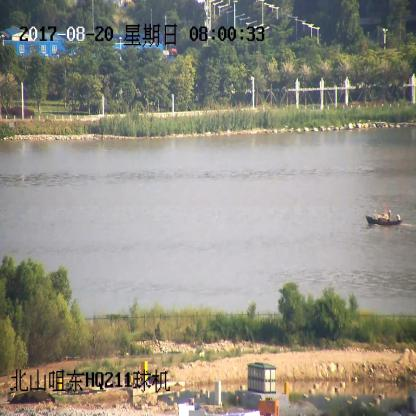Fishing Boat: (368, 206, 402, 226)
